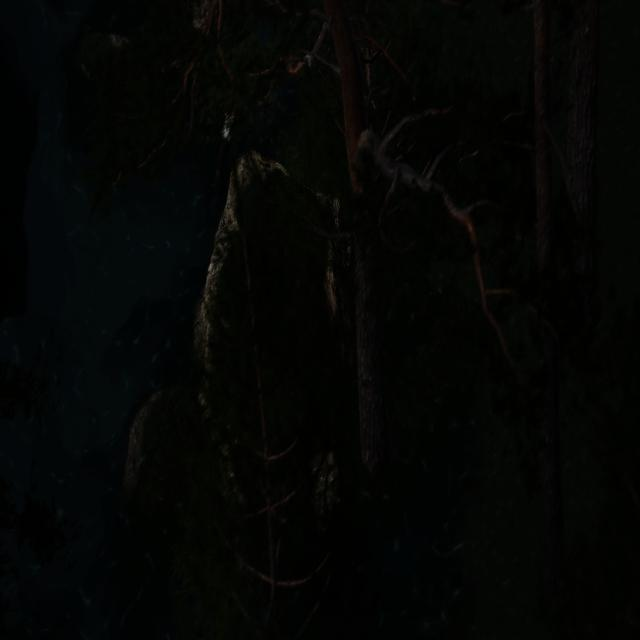Human: (186, 86, 241, 186)
